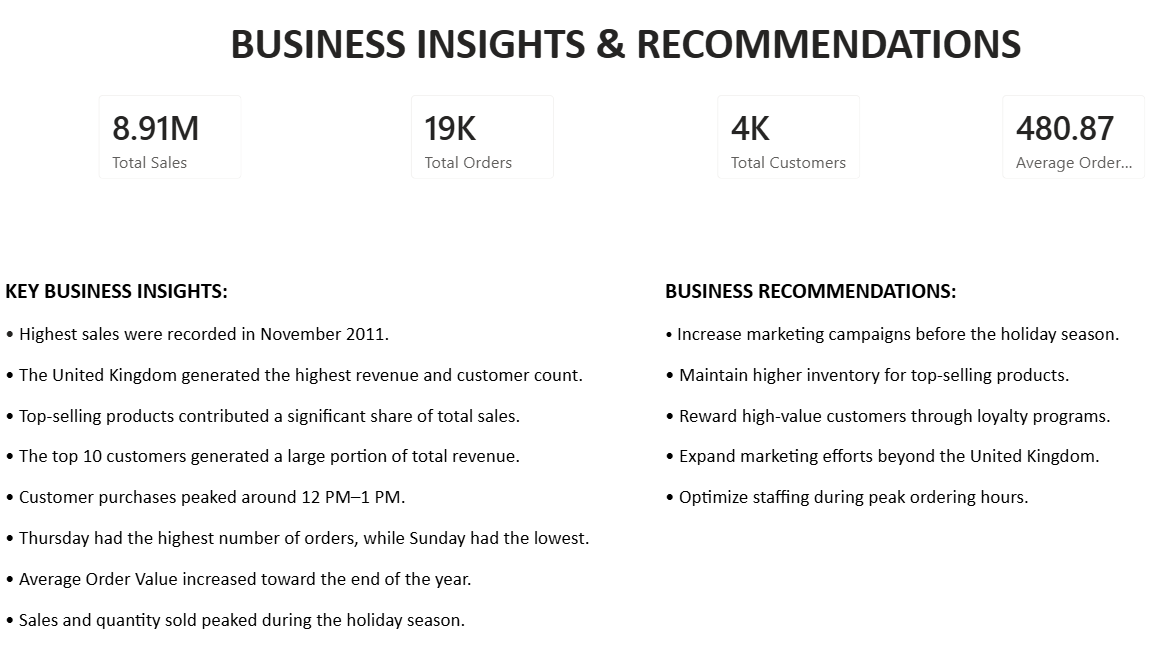

The dashboard page shown, as its layout file describes it:
{"tool":"powerbi","page":{"name":"Business Insights","canvas":[1280,720],"ordinal":3},"visuals":[{"type":"textbox","box":[28.8,31.6,1224,64.5],"z":1},{"type":"cardVisual","fields":{"Data":["e-commerce_data.Total Sales"]},"box":[108.4,96.1,174.3,116.6],"z":2},{"type":"cardVisual","fields":{"Data":["e-commerce_data.Total Orders"]},"box":[414.4,96.1,174.3,116.6],"z":3},{"type":"cardVisual","fields":{"Data":["e-commerce_data.Total Customers"]},"box":[713.6,96.1,174.3,116.6],"z":4},{"type":"cardVisual","fields":{"Data":["e-commerce_data.Average Order Value"]},"box":[993.5,96.1,174.3,116.6],"z":5},{"type":"textbox","box":[28.8,286.8,591.4,376],"z":6},{"type":"textbox","box":[675.1,286.8,558.5,251.1],"z":7}]}

Visuals, with their boxes in screenshot pixels (x1, y1, x2, y2), scaled from the page's 1280x720 canvas onto the 1156x667 screenshot:
textbox: (26,29,1131,89)
cardVisual - e-commerce_data.Total Sales: (98,89,255,197)
cardVisual - e-commerce_data.Total Orders: (374,89,532,197)
cardVisual - e-commerce_data.Total Customers: (644,89,802,197)
cardVisual - e-commerce_data.Average Order Value: (897,89,1055,197)
textbox: (26,266,560,614)
textbox: (610,266,1114,498)
